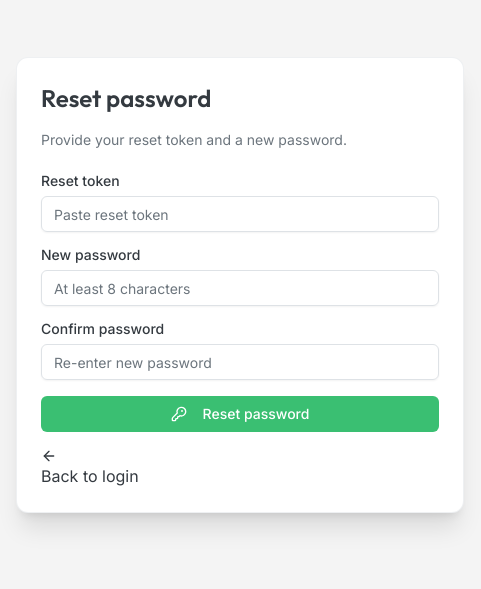
Scenario: Auth recovery public pages › renders reset password page and shows validation state
This screenshot has width=481, height=589.
Expected: the text "Provide your reset token and a new password." is shown, [41,131,347,148]
What coordinates should you click on to do the following:
click the button "Reset password"
I would click on:
 (240, 414)
Its box is [41,396,439,432].
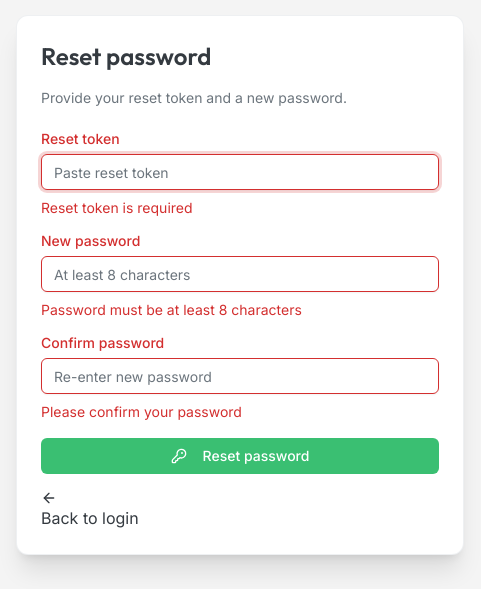
Now the text "Reset token is required" is shown, box [41,199,192,216]
Now the text "Password must be at least 8 characters" is shown, box [41,301,302,318]
